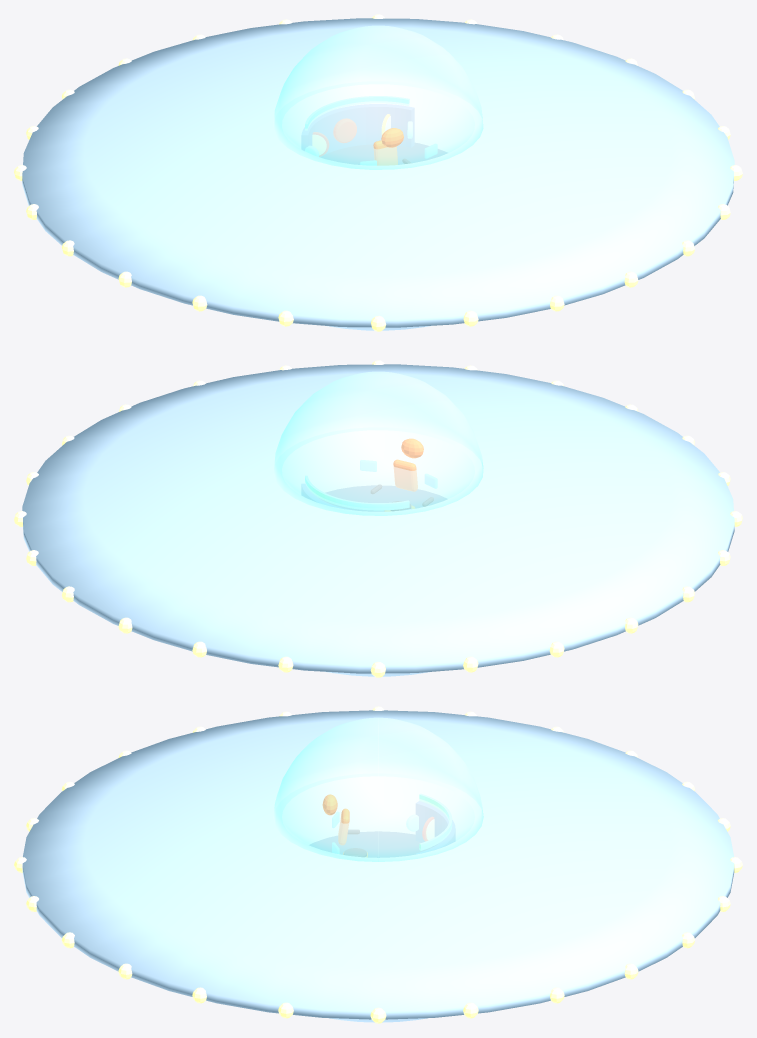
Rendered from ufo.glb.
3 views of the same model, one above another, from view 1: azimuth 30°, elevation 25°; view 2: azimuth 150°, elevation 25°; view 3: azimuth 270°, elevation 25° (orthographic).
Visible parts, largest first — view 1: UFO_Hull, UFO_Dome, UFO_RimLights, UFO_DashboardConsole, UFO_CockpitFloor, UFO_MissionProgressBar; view 2: UFO_Hull, UFO_Dome, UFO_RimLights, UFO_CockpitFloor, UFO_MissionProgressBar, UFO_SeatBack; view 3: UFO_Hull, UFO_Dome, UFO_RimLights, UFO_CockpitFloor, UFO_DashboardConsole, UFO_MissionProgressBar.
Boxes of the visible parts, x1=… form: UFO_Hull: x1=22, y1=18, x2=734, y2=330; UFO_Dome: x1=273, y1=25, x2=483, y2=169; UFO_RimLights: x1=14, y1=14, x2=742, y2=331; UFO_DashboardConsole: x1=302, y1=104, x2=413, y2=153; UFO_CockpitFloor: x1=321, y1=143, x2=446, y2=164; UFO_MissionProgressBar: x1=305, y1=96, x2=409, y2=129; UFO_Hull: x1=22, y1=364, x2=734, y2=676; UFO_Dome: x1=273, y1=371, x2=483, y2=515; UFO_RimLights: x1=14, y1=360, x2=742, y2=677; UFO_CockpitFloor: x1=325, y1=486, x2=446, y2=510; UFO_MissionProgressBar: x1=305, y1=475, x2=409, y2=509; UFO_SeatBack: x1=393, y1=459, x2=417, y2=490; UFO_Hull: x1=22, y1=710, x2=734, y2=1022; UFO_Dome: x1=273, y1=717, x2=483, y2=861; UFO_RimLights: x1=14, y1=706, x2=742, y2=1023; UFO_CockpitFloor: x1=310, y1=832, x2=431, y2=857; UFO_DashboardConsole: x1=416, y1=801, x2=454, y2=853; UFO_MissionProgressBar: x1=419, y1=794, x2=452, y2=850.
Size of the model in its own units: 3.17 by 1.28 by 3.17.
